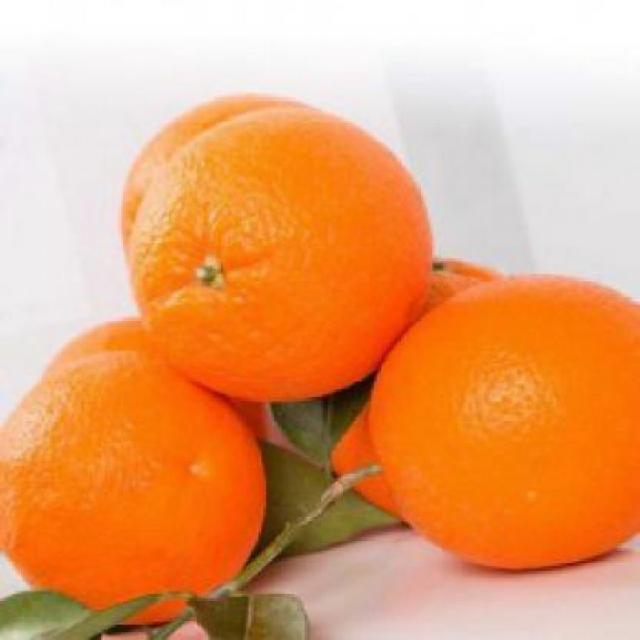Jeruk Sudah Matang: (130, 105, 438, 408), (368, 276, 638, 573), (0, 353, 266, 615)
